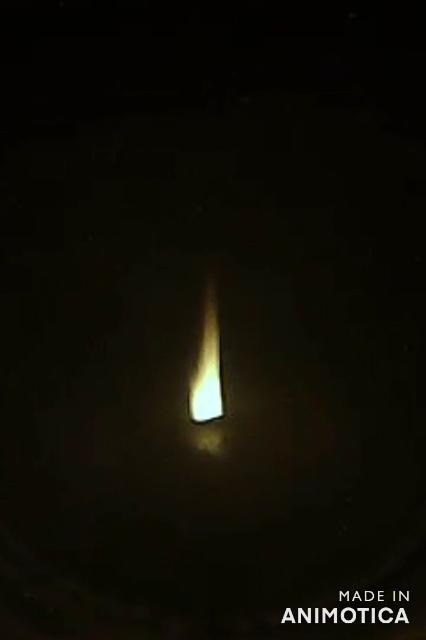burner flame: (187, 268, 227, 424)
